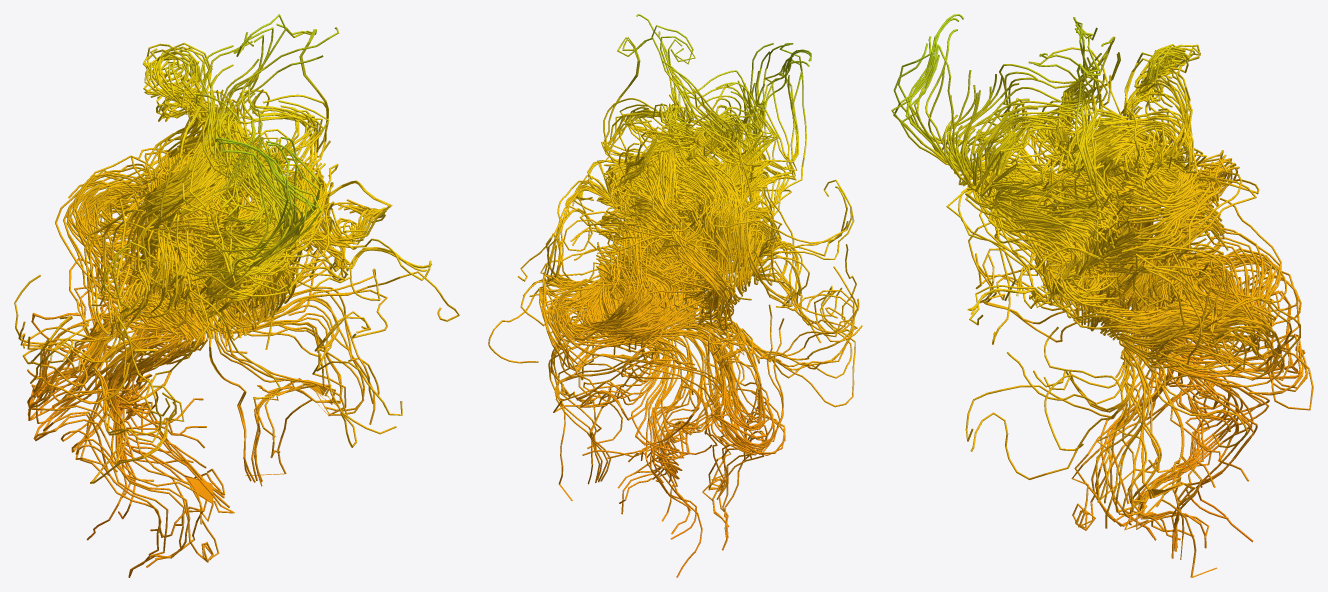
The picture shows the model from 3 angles, left to right: view 1: azimuth 30°, elevation 25°; view 2: azimuth 150°, elevation 25°; view 3: azimuth 270°, elevation 25°; orthographic projection. The views are drawn at different scales.
Visible parts, largest first — view 1: Mesh_Material.001_0; view 2: Mesh_Material.001_0; view 3: Mesh_Material.001_0.
Part boxes in pixels (<box>): Mesh_Material.001_0: <box>14,14,459,577</box>; Mesh_Material.001_0: <box>488,14,862,577</box>; Mesh_Material.001_0: <box>891,14,1313,577</box>.
Bounding box in the file's own units: 2.65 × 3.39 × 2.26.
1 material, 1 textured.
